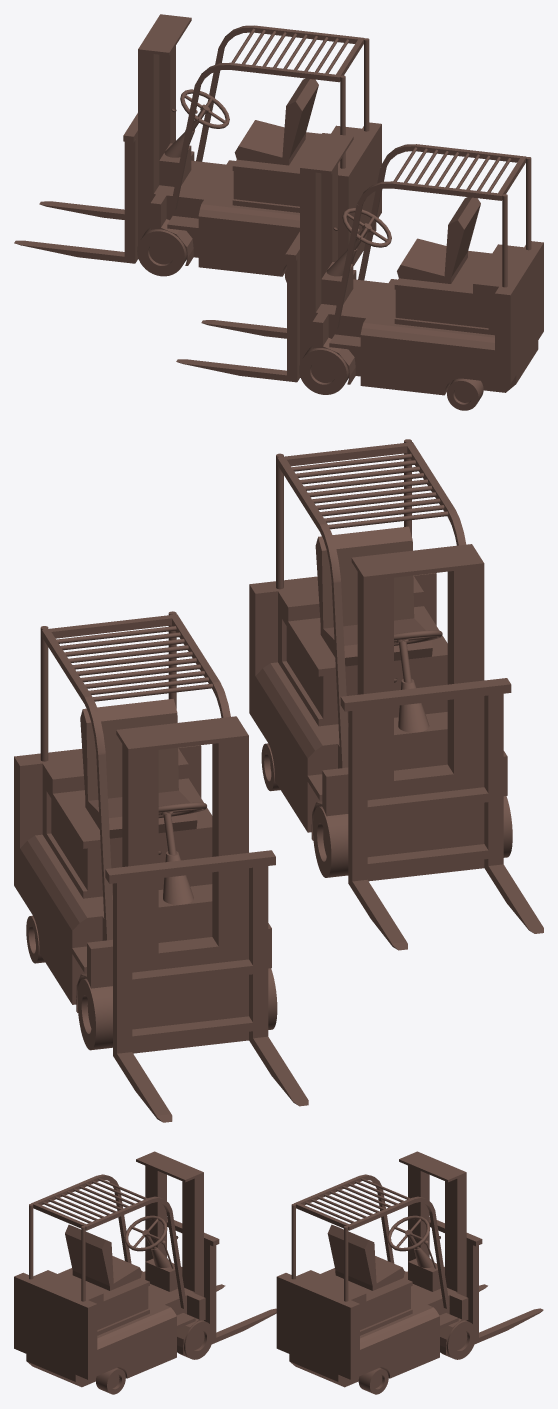
Rendered from GCC-AAV-13220-30.nwd(152).fbx.
The picture shows the model from 3 angles, top to bottom: view 1: azimuth 30°, elevation 25°; view 2: azimuth 150°, elevation 25°; view 3: azimuth 270°, elevation 25°; orthographic projection. The views are drawn at different scales.
Visible parts, largest first — view 1: EXTRUSION 3 of EQUIPMENT 75 of ZONE /13220-10-5201/ME/GT, EXTRUSION 3 of EQUIPMENT 74 of ZONE /13220-10-5201/ME/GT, BOX 4 of EQUIPMENT 75 of ZONE /13220-10-5201/ME/GT, BOX 4 of EQUIPMENT 74 of ZONE /13220-10-5201/ME/GT, EXTRUSION 1 of EQUIPMENT 74 of ZONE /13220-10-5201/ME/GT, EXTRUSION 1 of EQUIPMENT 75 of ZONE /13220-10-5201/ME/GT, CYLINDER 3 of EQUIPMENT 74 of ZONE /13220-10-5201/ME/GT, CYLINDER 3 of EQUIPMENT 75 of ZONE /13220-10-5201/ME/GT, EXTRUSION 4 of EQUIPMENT 74 of ZONE /13220-10-5201/ME/GT, EXTRUSION 4 of EQUIPMENT 75 of ZONE /13220-10-5201/ME/GT, EXTRUSION 5 of EQUIPMENT 74 of ZONE /13220-10-5201/ME/GT, EXTRUSION 5 of EQUIPMENT 75 of ZONE /13220-10-5201/ME/GT (+20 smaller); view 2: EXTRUSION 3 of EQUIPMENT 75 of ZONE /13220-10-5201/ME/GT, EXTRUSION 3 of EQUIPMENT 74 of ZONE /13220-10-5201/ME/GT, BOX 4 of EQUIPMENT 75 of ZONE /13220-10-5201/ME/GT, BOX 4 of EQUIPMENT 74 of ZONE /13220-10-5201/ME/GT, BOX 5 of EQUIPMENT 75 of ZONE /13220-10-5201/ME/GT, BOX 5 of EQUIPMENT 74 of ZONE /13220-10-5201/ME/GT, EXTRUSION 5 of EQUIPMENT 74 of ZONE /13220-10-5201/ME/GT, EXTRUSION 5 of EQUIPMENT 75 of ZONE /13220-10-5201/ME/GT, EXTRUSION 2 of EQUIPMENT 74 of ZONE /13220-10-5201/ME/GT, EXTRUSION 2 of EQUIPMENT 75 of ZONE /13220-10-5201/ME/GT, EXTRUSION 1 of EQUIPMENT 74 of ZONE /13220-10-5201/ME/GT, EXTRUSION 1 of EQUIPMENT 75 of ZONE /13220-10-5201/ME/GT (+24 smaller); view 3: EXTRUSION 3 of EQUIPMENT 74 of ZONE /13220-10-5201/ME/GT, EXTRUSION 3 of EQUIPMENT 75 of ZONE /13220-10-5201/ME/GT, BOX 5 of EQUIPMENT 74 of ZONE /13220-10-5201/ME/GT, BOX 5 of EQUIPMENT 75 of ZONE /13220-10-5201/ME/GT, EXTRUSION 5 of EQUIPMENT 75 of ZONE /13220-10-5201/ME/GT, EXTRUSION 5 of EQUIPMENT 74 of ZONE /13220-10-5201/ME/GT, EXTRUSION 2 of EQUIPMENT 75 of ZONE /13220-10-5201/ME/GT, EXTRUSION 2 of EQUIPMENT 74 of ZONE /13220-10-5201/ME/GT, BOX 4 of EQUIPMENT 74 of ZONE /13220-10-5201/ME/GT, BOX 4 of EQUIPMENT 75 of ZONE /13220-10-5201/ME/GT, BOX 6 of EQUIPMENT 74 of ZONE /13220-10-5201/ME/GT, BOX 6 of EQUIPMENT 75 of ZONE /13220-10-5201/ME/GT (+22 smaller).
Part boxes in pixels (<box>): EXTRUSION 3 of EQUIPMENT 75 of ZONE /13220-10-5201/ME/GT: <box>300,241,543,395</box>; EXTRUSION 3 of EQUIPMENT 74 of ZONE /13220-10-5201/ME/GT: <box>138,122,381,276</box>; BOX 4 of EQUIPMENT 75 of ZONE /13220-10-5201/ME/GT: <box>300,171,321,312</box>; BOX 4 of EQUIPMENT 74 of ZONE /13220-10-5201/ME/GT: <box>138,52,159,193</box>; EXTRUSION 1 of EQUIPMENT 74 of ZONE /13220-10-5201/ME/GT: <box>14,136,137,263</box>; EXTRUSION 1 of EQUIPMENT 75 of ZONE /13220-10-5201/ME/GT: <box>176,255,299,382</box>; CYLINDER 3 of EQUIPMENT 74 of ZONE /13220-10-5201/ME/GT: <box>137,227,186,276</box>; CYLINDER 3 of EQUIPMENT 75 of ZONE /13220-10-5201/ME/GT: <box>299,346,348,394</box>; EXTRUSION 4 of EQUIPMENT 74 of ZONE /13220-10-5201/ME/GT: <box>234,120,305,165</box>; EXTRUSION 4 of EQUIPMENT 75 of ZONE /13220-10-5201/ME/GT: <box>397,238,467,283</box>; EXTRUSION 5 of EQUIPMENT 74 of ZONE /13220-10-5201/ME/GT: <box>282,78,318,159</box>; EXTRUSION 5 of EQUIPMENT 75 of ZONE /13220-10-5201/ME/GT: <box>444,197,480,277</box>; EXTRUSION 3 of EQUIPMENT 75 of ZONE /13220-10-5201/ME/GT: <box>249,573,507,881</box>; EXTRUSION 3 of EQUIPMENT 74 of ZONE /13220-10-5201/ME/GT: <box>14,745,271,1053</box>; BOX 4 of EQUIPMENT 75 of ZONE /13220-10-5201/ME/GT: <box>447,567,484,774</box>; BOX 4 of EQUIPMENT 74 of ZONE /13220-10-5201/ME/GT: <box>212,739,248,946</box>; BOX 5 of EQUIPMENT 75 of ZONE /13220-10-5201/ME/GT: <box>357,572,393,783</box>; BOX 5 of EQUIPMENT 74 of ZONE /13220-10-5201/ME/GT: <box>122,744,158,956</box>; EXTRUSION 5 of EQUIPMENT 74 of ZONE /13220-10-5201/ME/GT: <box>80,699,178,800</box>; EXTRUSION 5 of EQUIPMENT 75 of ZONE /13220-10-5201/ME/GT: <box>315,526,414,628</box>; EXTRUSION 2 of EQUIPMENT 74 of ZONE /13220-10-5201/ME/GT: <box>113,881,172,1122</box>; EXTRUSION 2 of EQUIPMENT 75 of ZONE /13220-10-5201/ME/GT: <box>348,709,407,950</box>; EXTRUSION 1 of EQUIPMENT 74 of ZONE /13220-10-5201/ME/GT: <box>249,866,308,1106</box>; EXTRUSION 1 of EQUIPMENT 75 of ZONE /13220-10-5201/ME/GT: <box>484,693,543,933</box>; EXTRUSION 3 of EQUIPMENT 74 of ZONE /13220-10-5201/ME/GT: <box>276,1268,468,1387</box>; EXTRUSION 3 of EQUIPMENT 75 of ZONE /13220-10-5201/ME/GT: <box>14,1268,205,1387</box>; BOX 5 of EQUIPMENT 74 of ZONE /13220-10-5201/ME/GT: <box>445,1175,466,1291</box>; BOX 5 of EQUIPMENT 75 of ZONE /13220-10-5201/ME/GT: <box>182,1174,203,1291</box>; EXTRUSION 5 of EQUIPMENT 75 of ZONE /13220-10-5201/ME/GT: <box>65,1224,113,1285</box>; EXTRUSION 5 of EQUIPMENT 74 of ZONE /13220-10-5201/ME/GT: <box>327,1224,376,1285</box>; EXTRUSION 2 of EQUIPMENT 75 of ZONE /13220-10-5201/ME/GT: <box>204,1242,276,1344</box>; EXTRUSION 2 of EQUIPMENT 74 of ZONE /13220-10-5201/ME/GT: <box>466,1243,543,1343</box>; BOX 4 of EQUIPMENT 74 of ZONE /13220-10-5201/ME/GT: <box>408,1165,429,1261</box>; BOX 4 of EQUIPMENT 75 of ZONE /13220-10-5201/ME/GT: <box>145,1165,166,1261</box>; BOX 6 of EQUIPMENT 74 of ZONE /13220-10-5201/ME/GT: <box>399,1151,466,1182</box>; BOX 6 of EQUIPMENT 75 of ZONE /13220-10-5201/ME/GT: <box>136,1151,203,1182</box>.
Size of the model in its own units: 120 by 86.42 by 238.
